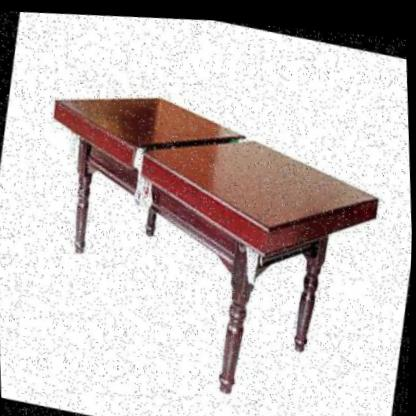Table: (0, 34, 415, 416)
